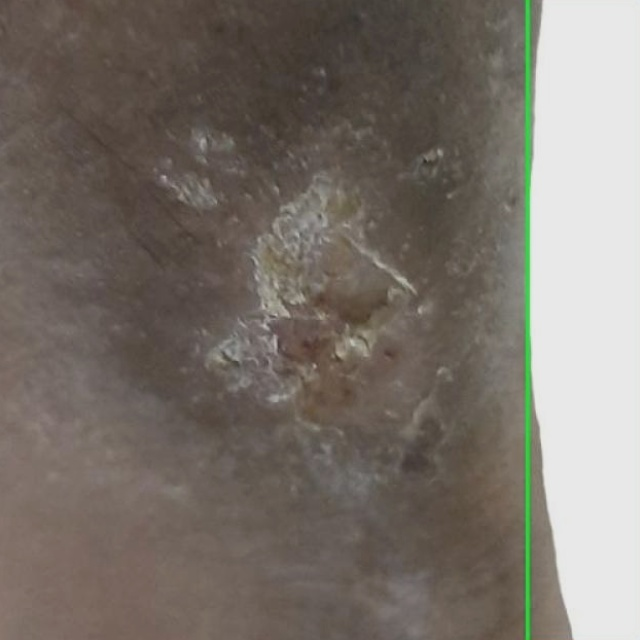Eczema: (527, 0, 639, 639)
